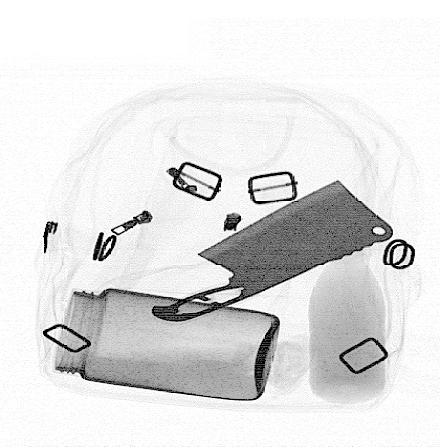Knife: (148, 178, 394, 322)
